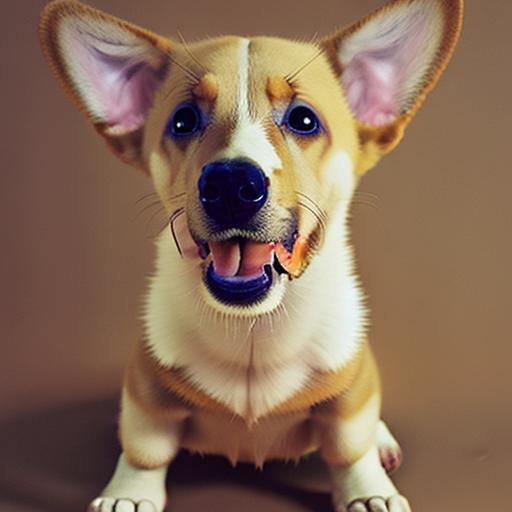eye: (284, 100, 323, 143), (165, 102, 208, 138)
